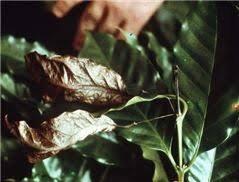mal de hilachas: (17, 43, 127, 166)
